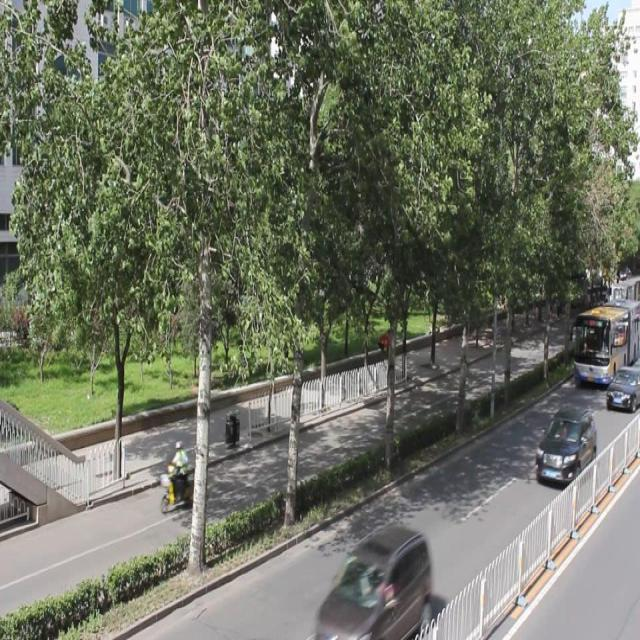car: (314, 524, 429, 640), (535, 405, 595, 486), (605, 364, 640, 410)
